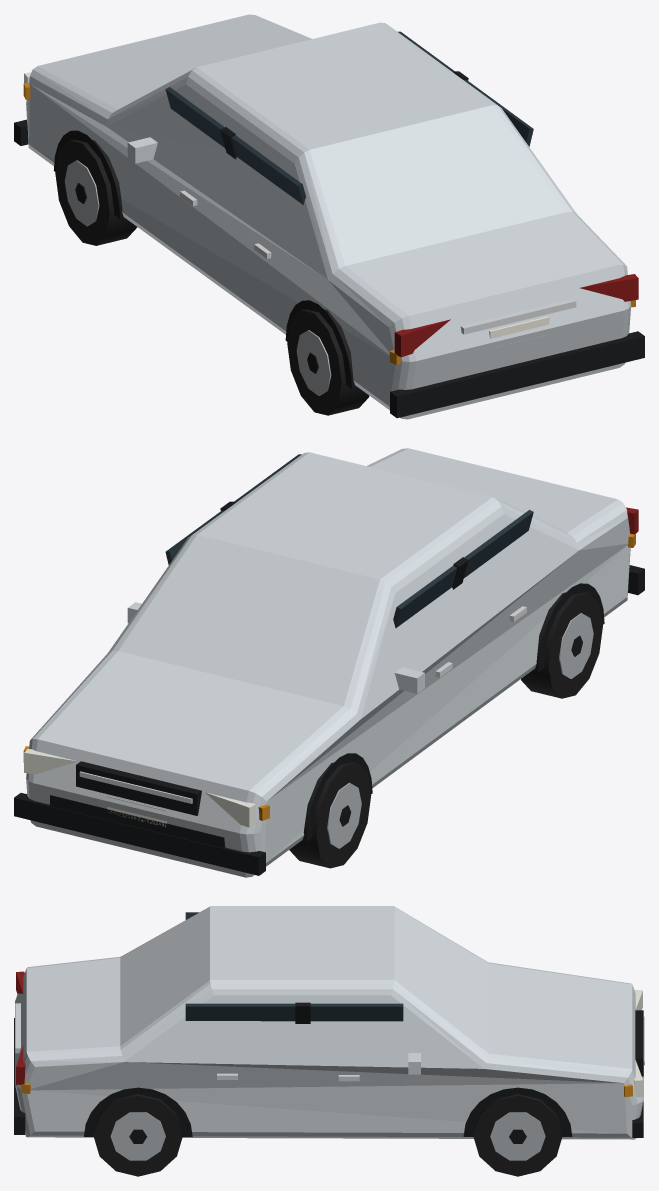
The model's file is car.glb.
The picture shows the model from 3 angles, top to bottom: view 1: azimuth 30°, elevation 25°; view 2: azimuth 150°, elevation 25°; view 3: azimuth 270°, elevation 25°; orthographic projection. The views are drawn at different scales.
Visible parts, largest first — view 1: body_shell, bumper_r, wheel_RL, wheel_FL, side_win_-1, boot_trim, brake_-1, brake_1, arch_-1_-1.36, arch_-1_1.36, side_win_1, mirror_-1 (+1 smaller); view 2: body_shell, wheel_RL, wheel_FL, bumper_f, grille, side_win_-1, intake, arch_-1_1.36, arch_-1_-1.36, head_-1, head_1, grille_bar (+1 smaller); view 3: body_shell, wheel_FR, wheel_RR, side_win_1, arch_1_-1.36, arch_1_1.36, grille, bumper_r.
Boxes of the visible parts, left/top/right/bottom form: body_shell: left=26, top=14, right=631, bottom=419; bumper_r: left=390, top=331, right=644, bottom=418; wheel_RL: left=287, top=309, right=369, bottom=415; wheel_FL: left=55, top=139, right=137, bottom=245; side_win_-1: left=165, top=87, right=305, bottom=204; boot_trim: left=460, top=298, right=576, bottom=334; brake_-1: left=394, top=319, right=450, bottom=357; brake_1: left=580, top=274, right=638, bottom=301; arch_-1_-1.36: left=53, top=130, right=120, bottom=218; arch_-1_1.36: left=285, top=300, right=351, bottom=388; side_win_1: left=398, top=31, right=533, bottom=146; mirror_-1: left=127, top=137, right=157, bottom=163; body_shell: left=26, top=448, right=630, bottom=877; wheel_RL: left=521, top=592, right=602, bottom=698; wheel_FL: left=289, top=762, right=371, bottom=868; bumper_f: left=14, top=793, right=265, bottom=875; grille: left=76, top=761, right=201, bottom=815; side_win_-1: left=393, top=510, right=533, bottom=628; intake: left=50, top=795, right=225, bottom=848; arch_-1_1.36: left=538, top=583, right=604, bottom=671; arch_-1_-1.36: left=306, top=753, right=372, bottom=841; head_-1: left=205, top=792, right=255, bottom=827; head_1: left=24, top=749, right=77, bottom=774; grille_bar: left=79, top=771, right=192, bottom=803; body_shell: left=15, top=906, right=643, bottom=1139; wheel_FR: left=473, top=1094, right=562, bottom=1176; wheel_RR: left=93, top=1094, right=182, bottom=1176; side_win_1: left=185, top=1003, right=403, bottom=1021; arch_1_-1.36: left=463, top=1087, right=572, bottom=1136; arch_1_1.36: left=84, top=1087, right=192, bottom=1136; grille: left=635, top=1010, right=643, bottom=1076; bumper_r: left=14, top=1018, right=25, bottom=1134.
Size of the model in its own units: 1.96 by 1.43 by 4.52.
